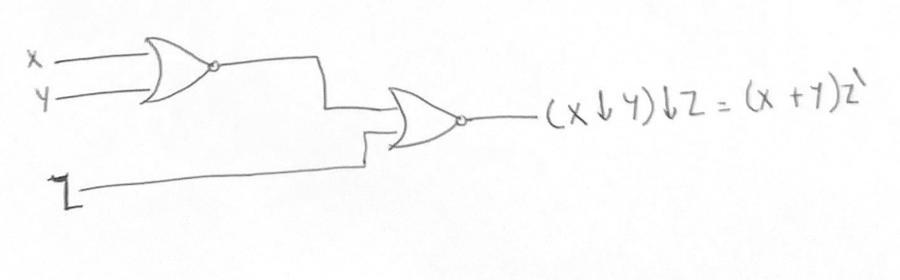NOR: (129, 22, 227, 111), (381, 77, 475, 162)
